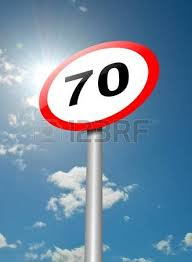Speed_limit_70km: (38, 40, 162, 131)
